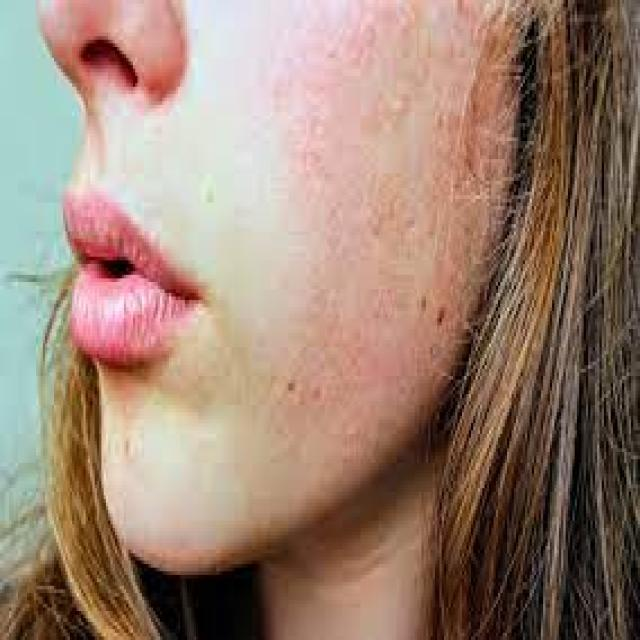Dry-Skin: (358, 277, 407, 339), (413, 69, 450, 151), (352, 52, 388, 115), (377, 203, 418, 250), (314, 284, 344, 341), (296, 348, 322, 401), (312, 138, 344, 176), (365, 400, 395, 436)
